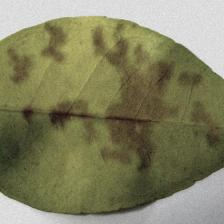black spot: (22, 41, 194, 150)
